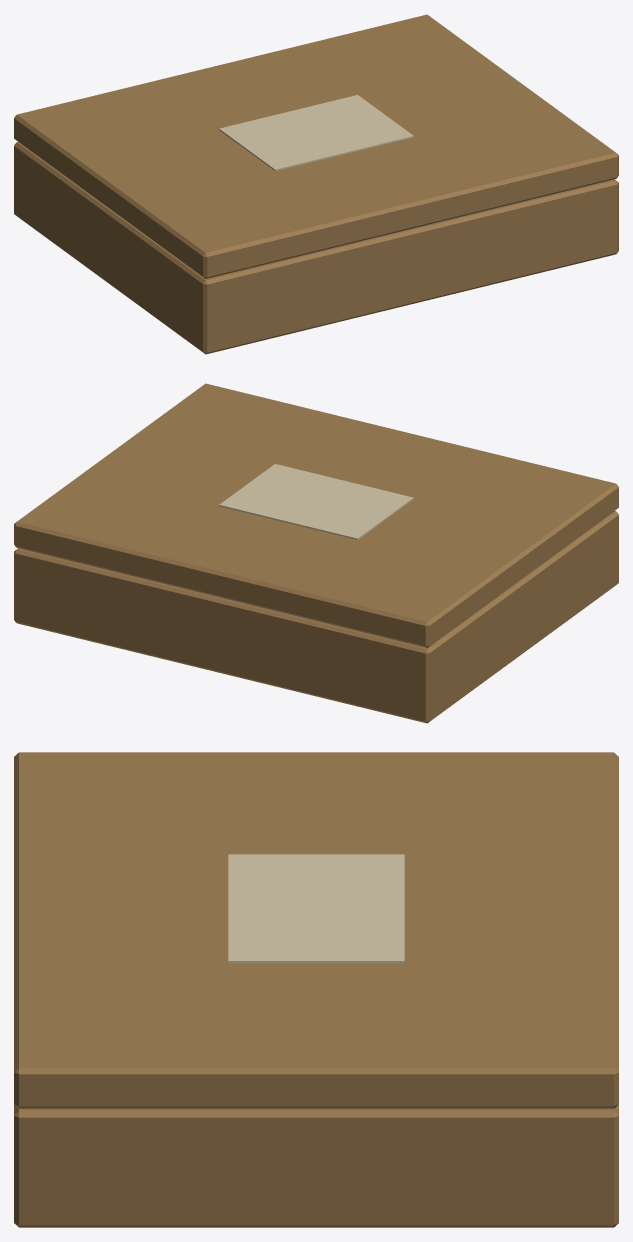
Rendered from dr_plate_box.glb.
3 views of the same model, one above another, from view 1: azimuth 30°, elevation 25°; view 2: azimuth 150°, elevation 25°; view 3: azimuth 270°, elevation 25° (orthographic). The views are drawn at different scales.
Visible parts, largest first — view 1: dr_plate_box; view 2: dr_plate_box; view 3: dr_plate_box.
Part boxes in pixels (box(x1,y1,x2,y2)): dr_plate_box: box(14, 14, 618, 354); dr_plate_box: box(14, 383, 618, 723); dr_plate_box: box(14, 752, 618, 1227).
Size of the model in its own units: 0.3 by 0.071 by 0.24.
